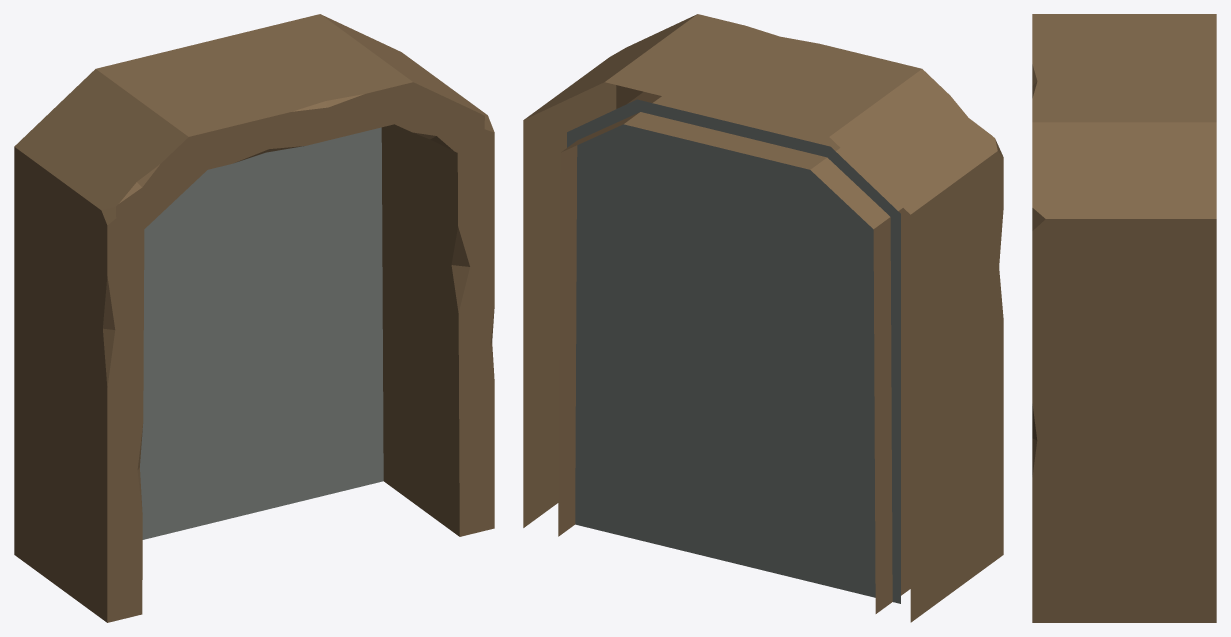
Rendered from SM_Env_Door_15.fbx.
3 renders of one model, left to right at view 1: azimuth 30°, elevation 25°; view 2: azimuth 150°, elevation 25°; view 3: azimuth 270°, elevation 25°, orthographic.
Visible parts, largest first — view 1: SM_Env_Door_15; view 2: SM_Env_Door_15; view 3: SM_Env_Door_15.
Boxes of the visible parts, x1,y1,x2,y2 form: SM_Env_Door_15: (14,14,494,622); SM_Env_Door_15: (523,14,1003,622); SM_Env_Door_15: (1032,14,1216,622).
Size of the model in its own units: 186 by 214 by 77.38.
Materials: 1 (1 with a texture image).
